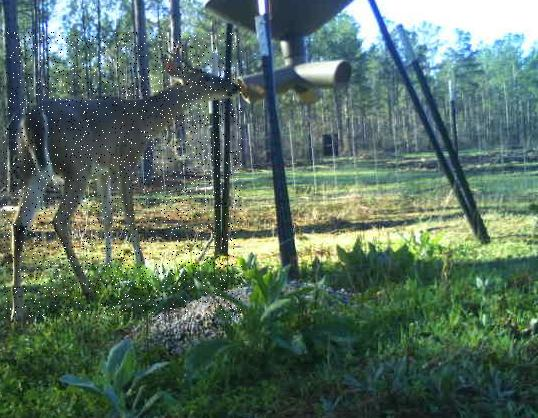Deer: (3, 33, 242, 319)
